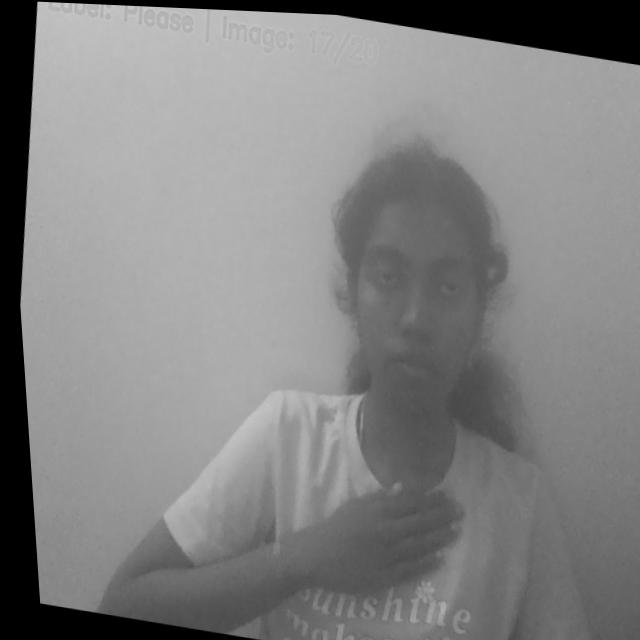Please: (235, 445, 473, 640)
